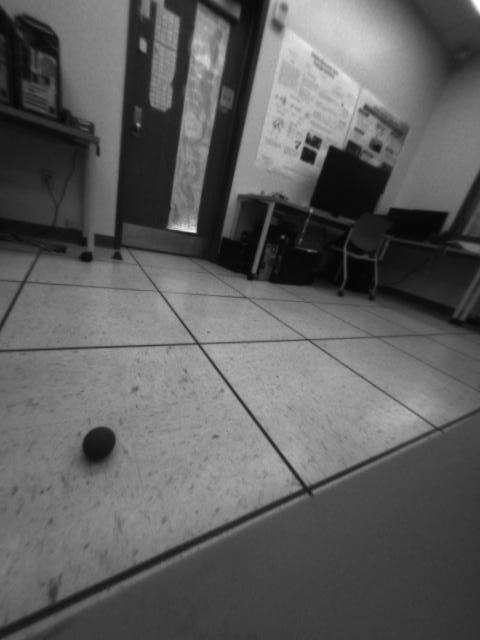dogtoy: (77, 414, 122, 467)
